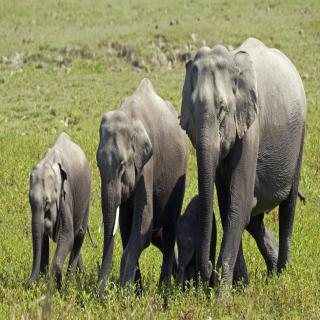Elephant: (178, 34, 311, 295), (96, 74, 191, 310), (27, 129, 98, 297), (174, 195, 220, 294)
